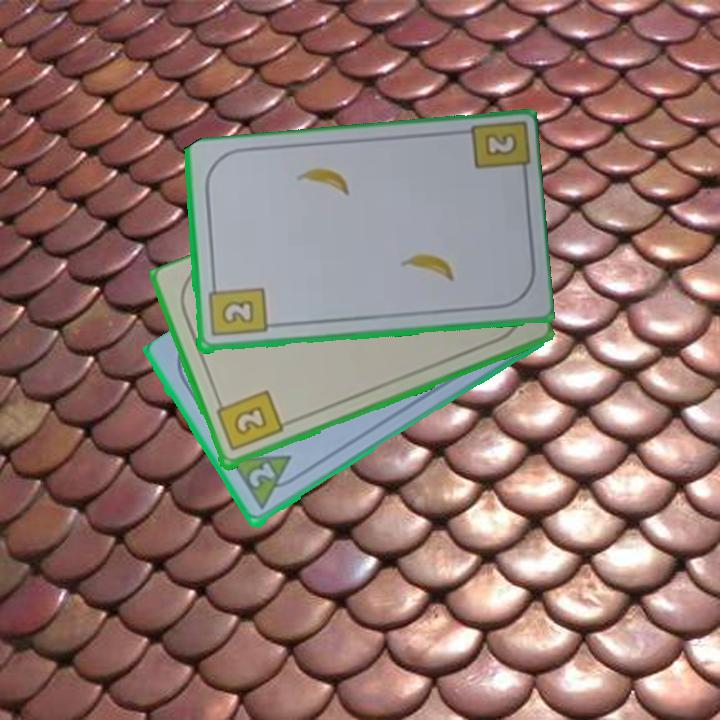2b: (212, 387, 286, 454), (204, 279, 269, 340), (484, 133, 517, 157)
2p: (244, 459, 278, 492)
